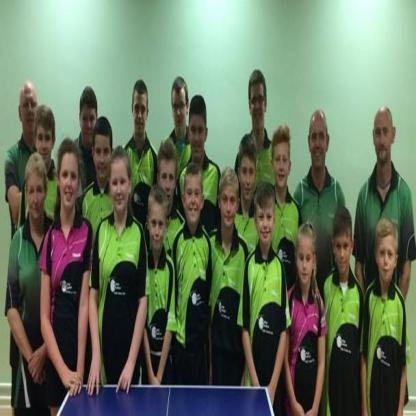face: (61, 156, 80, 207), (111, 164, 129, 212), (27, 176, 45, 221), (150, 202, 166, 251), (186, 176, 203, 222), (257, 201, 274, 245), (335, 229, 351, 274), (274, 144, 289, 190), (376, 118, 392, 161), (379, 238, 395, 281), (312, 124, 327, 168), (160, 161, 175, 205), (96, 134, 110, 180), (252, 85, 266, 131), (37, 127, 53, 166), (222, 187, 237, 227), (242, 159, 256, 201), (191, 117, 205, 159), (298, 243, 313, 282), (82, 107, 96, 148), (23, 95, 37, 134), (135, 93, 147, 136), (174, 93, 188, 127)
